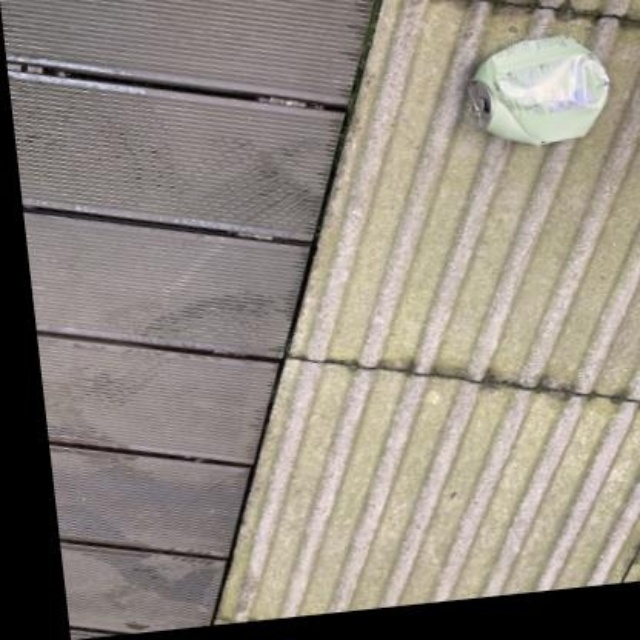trash: (468, 35, 608, 145)
